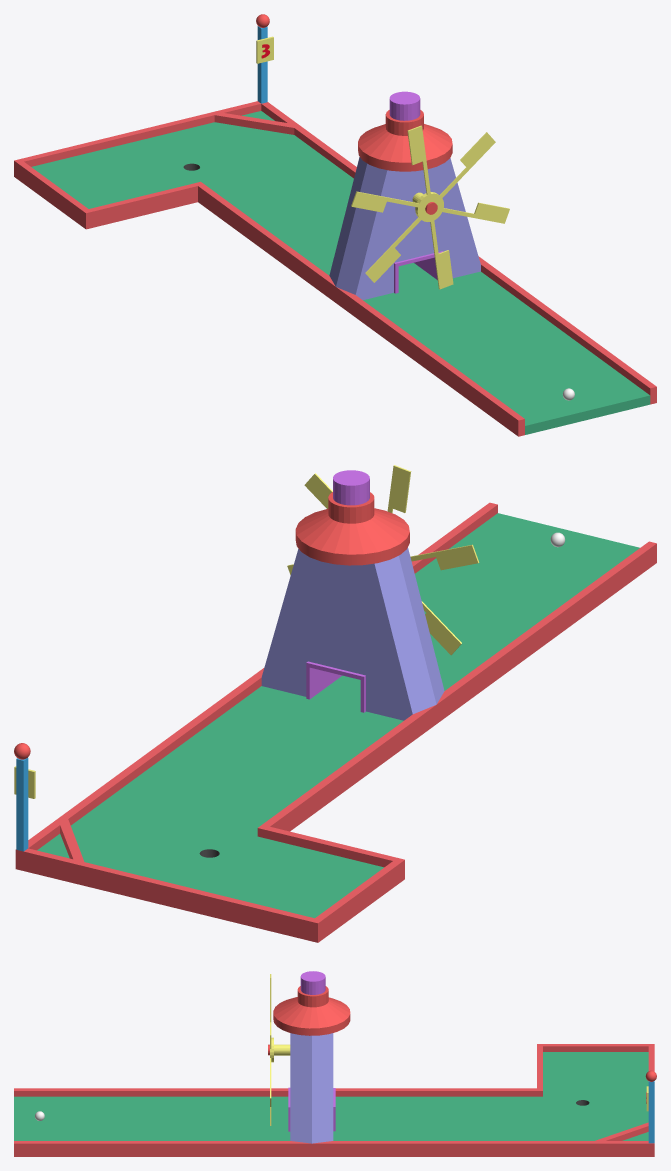
3 views of the same model, one above another, from view 1: azimuth 30°, elevation 25°; view 2: azimuth 150°, elevation 25°; view 3: azimuth 270°, elevation 25° (orthographic). The views are drawn at different scales.
Visible parts, largest first — view 1: Material3.002, Material3.004, Material2.002, Material2.001, Material3, Material3.001; view 2: Material3.002, Material3.004, Material2.002, Material3, Material2.001, Material3.001, Material2; view 3: Material3.002, Material3.004, Material2.002, Material3, Material3.001, Material2.001, Material2.
Part boxes in pixels (left/top/right/bottom): Material3.002: left=31, top=111, right=650, bottom=434; Material3.004: left=14, top=101, right=656, bottom=436; Material2.002: left=329, top=157, right=480, bottom=299; Material2.001: left=256, top=36, right=509, bottom=289; Material3: left=256, top=14, right=452, bottom=214; Material3.001: left=389, top=91, right=442, bottom=293; Material3.002: left=37, top=513, right=639, bottom=918; Material3.004: left=15, top=502, right=656, bottom=942; Material2.002: left=261, top=547, right=444, bottom=720; Material3: left=14, top=492, right=409, bottom=759; Material2.001: left=14, top=465, right=479, bottom=798; Material3.001: left=306, top=470, right=369, bottom=712; Material2: left=16, top=758, right=28, bottom=851; Material3.002: left=14, top=1052, right=648, bottom=1140; Material3.004: left=14, top=1044, right=654, bottom=1156; Material2.002: left=290, top=1033, right=333, bottom=1143; Material3: left=268, top=986, right=656, bottom=1081; Material3.001: left=288, top=971, right=335, bottom=1131; Material2.001: left=270, top=974, right=648, bottom=1125; Material2: left=648, top=1081, right=654, bottom=1143.
Bounding box in the file's own units: 29.76 × 20.47 × 77.97.
